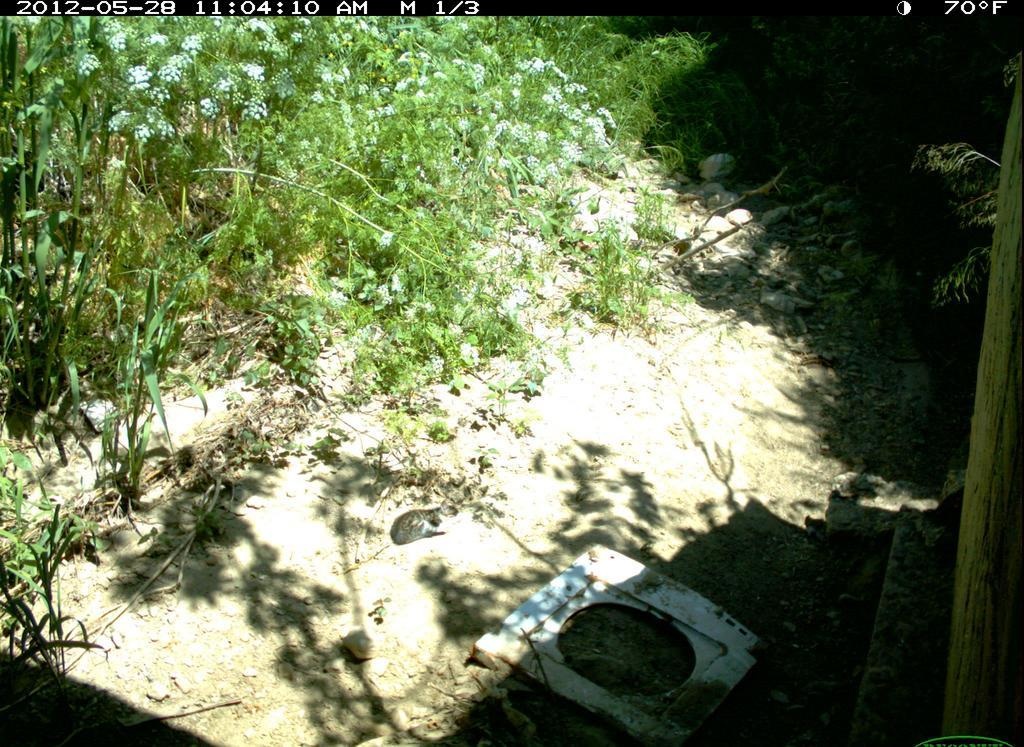cat: (383, 498, 469, 555)
